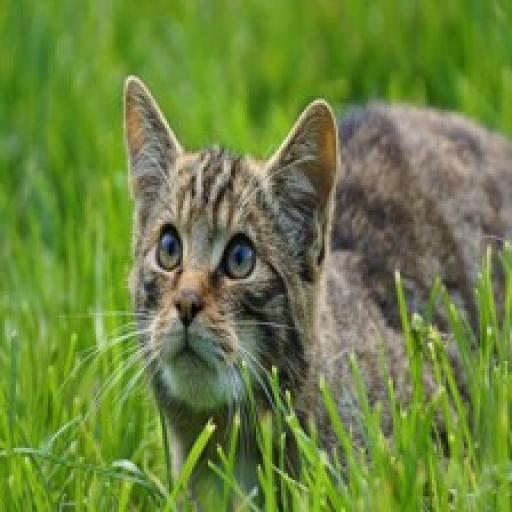cat: (98, 64, 512, 498)
